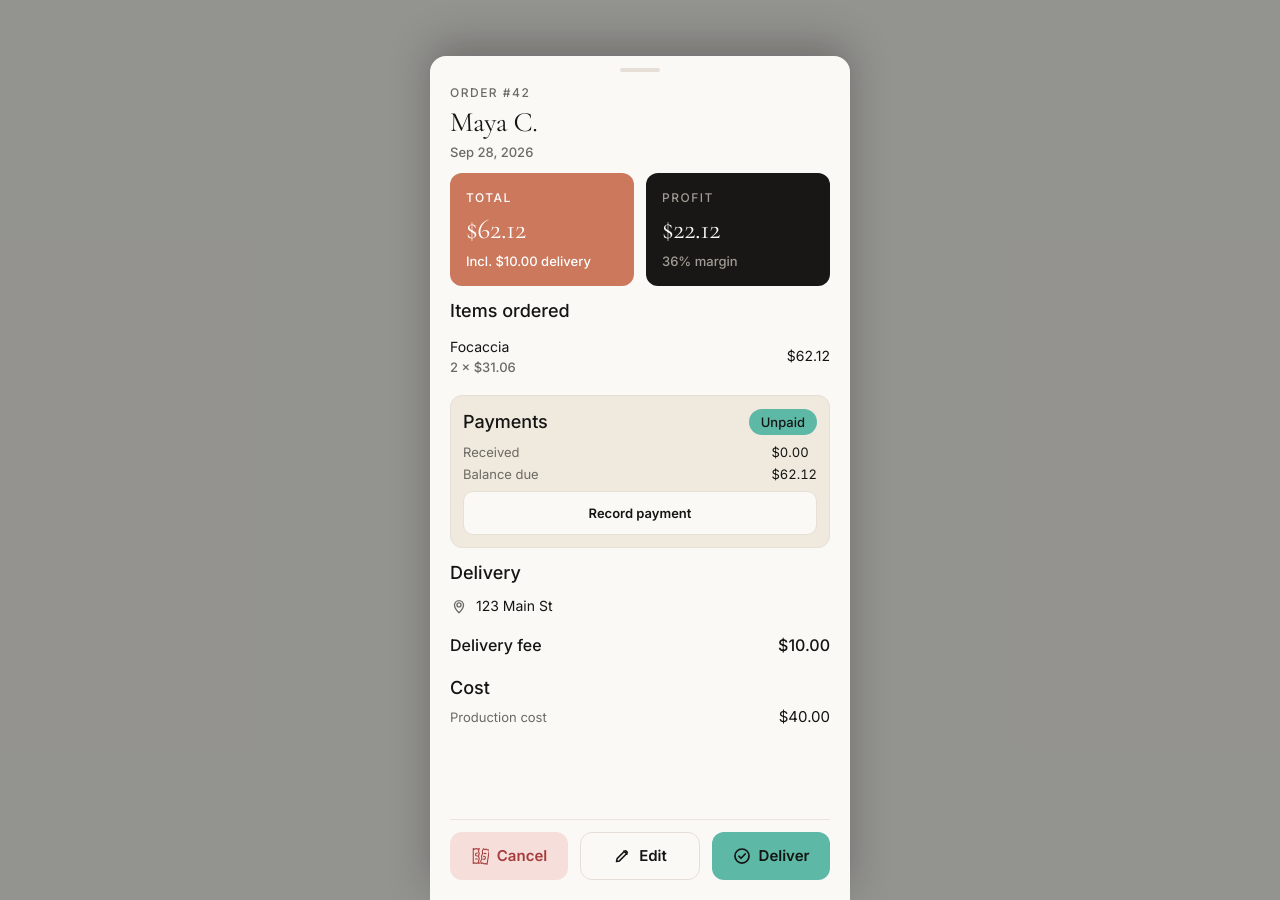
Test: OrderDetailPage payments › records a deposit and shows the payment history and balance from the server
Click the button "Record payment" at (640, 513), box [463,491,817,535]
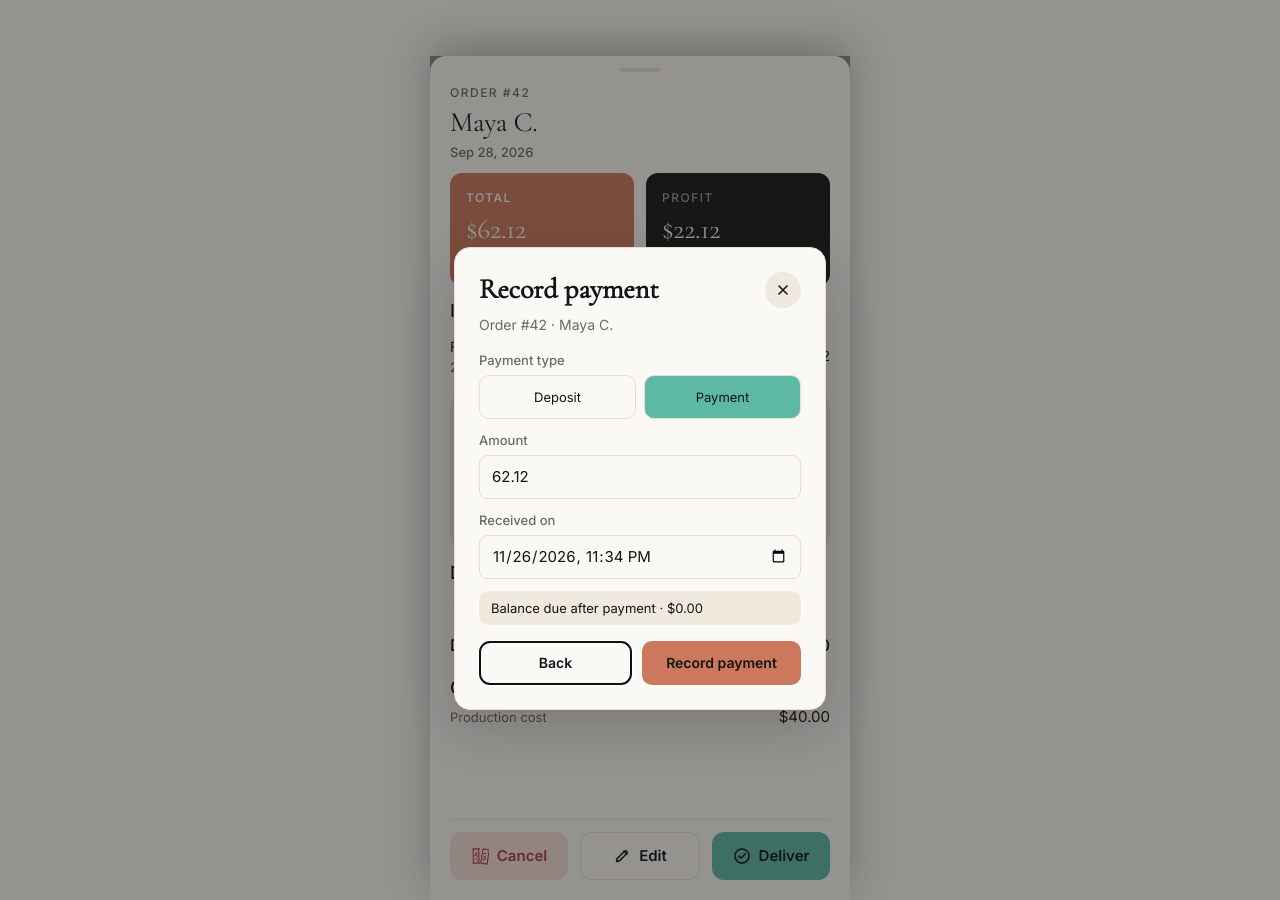
Click the radio button labelled "Deposit" at (558, 396), box [479,374,636,418]
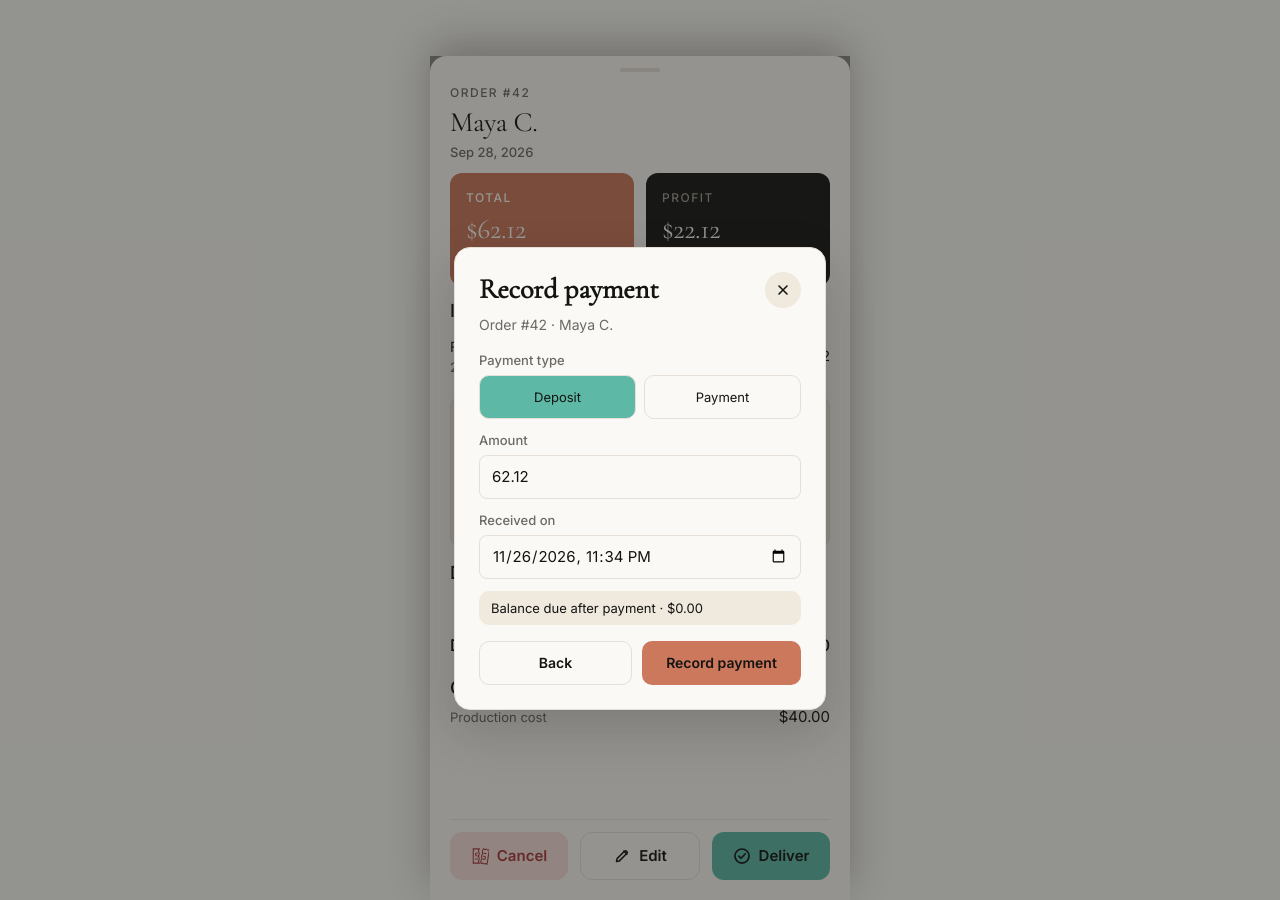
Clear the number field labelled "Amount" at (640, 476), box [479,454,801,498]
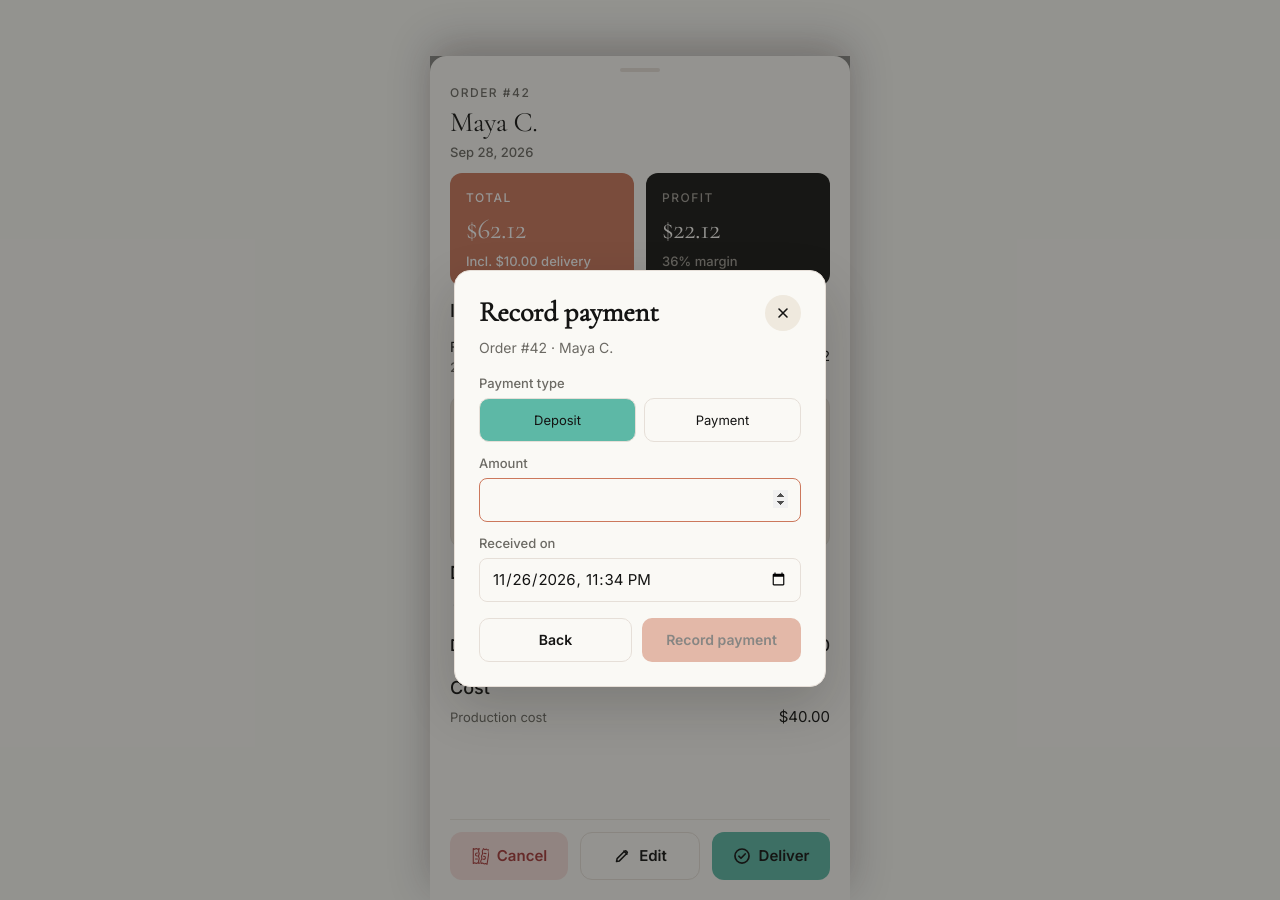
Type "20.00" into the number field labelled "Amount" at (640, 500), box [479,478,801,522]
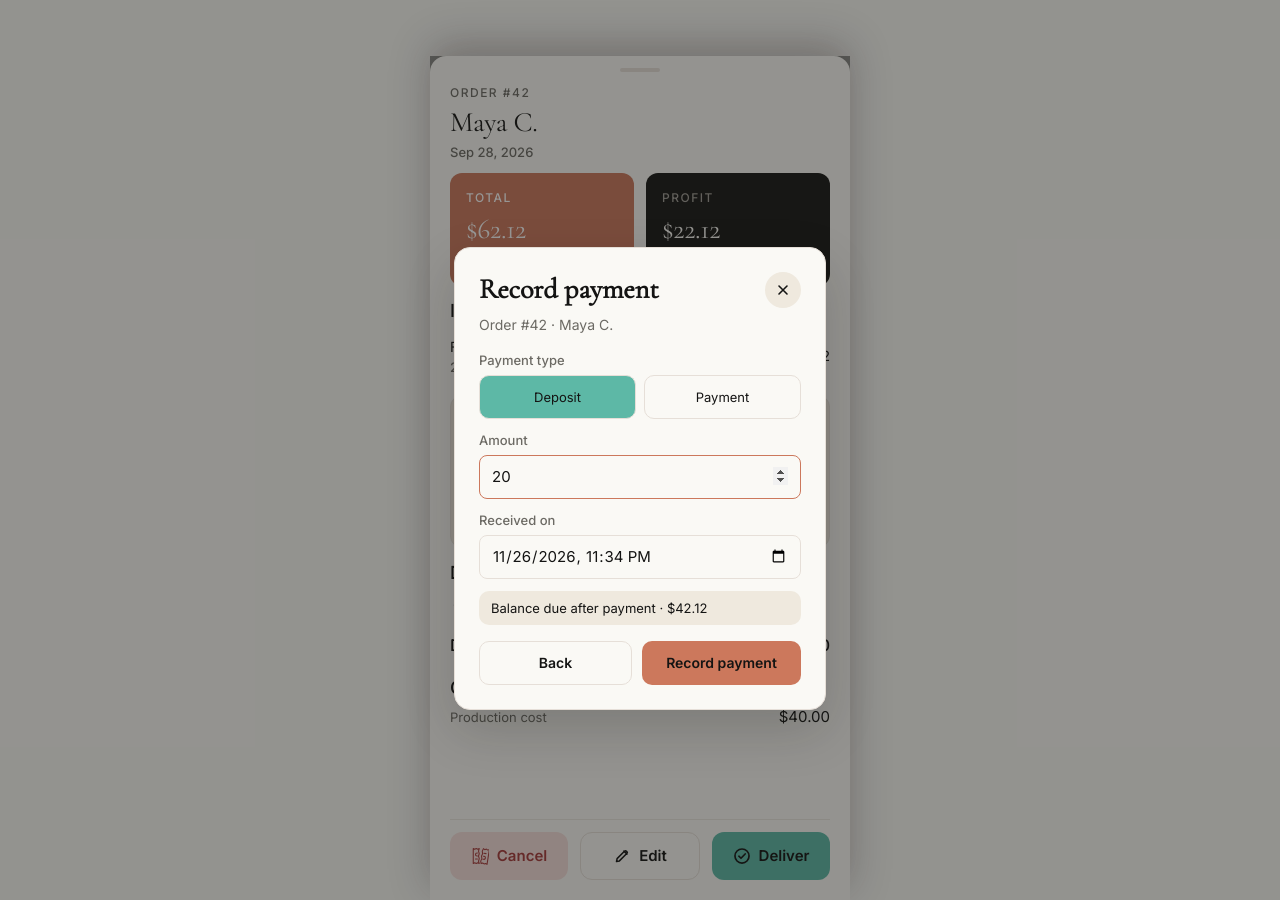
Click the button "Record payment" below "Balance due after payment ·" at (722, 662), box [642,640,801,684]
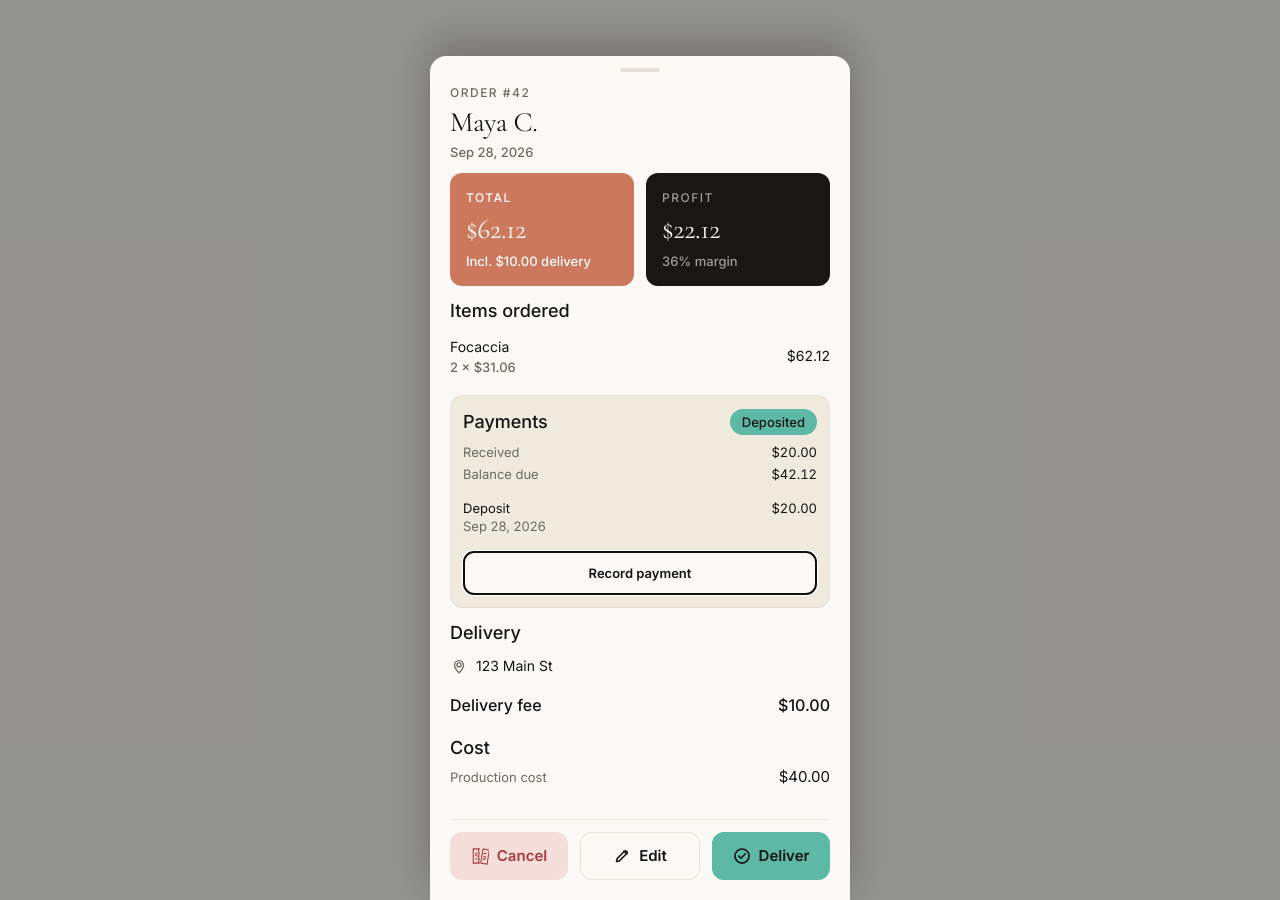
Result: the text "Deposited" is shown at [730,408,817,434]
Result: the text "$42.12" is shown at [771,465,817,483]
Result: the text "Deposit" is shown at [463,500,510,516]
